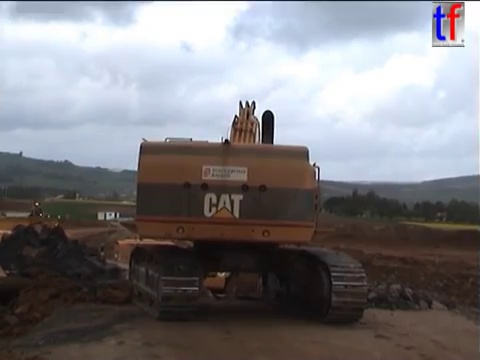excavator: (112, 96, 372, 326)
truck: (1, 223, 146, 338), (98, 234, 201, 314), (202, 247, 318, 306)
